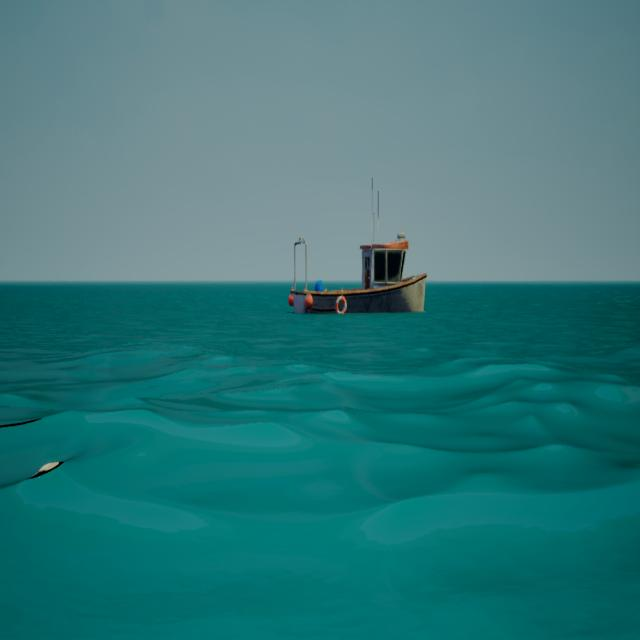ship: (289, 174, 430, 334)
